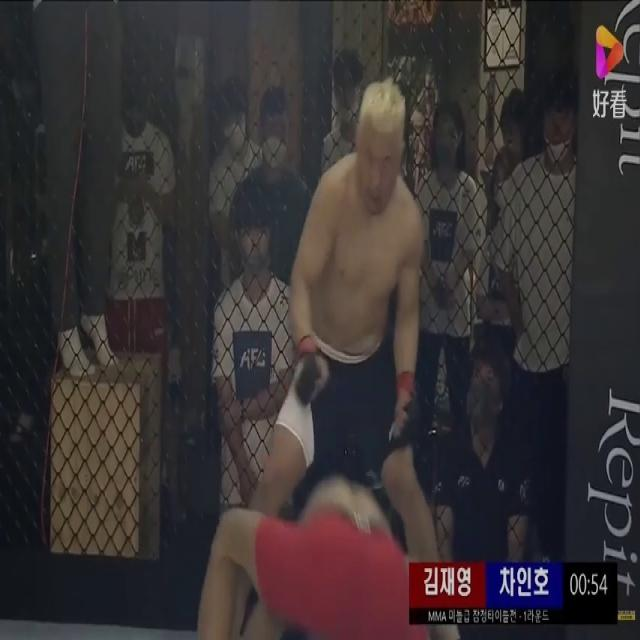fight: (196, 61, 458, 640)
non-fight: (486, 75, 574, 564), (212, 173, 298, 512)
